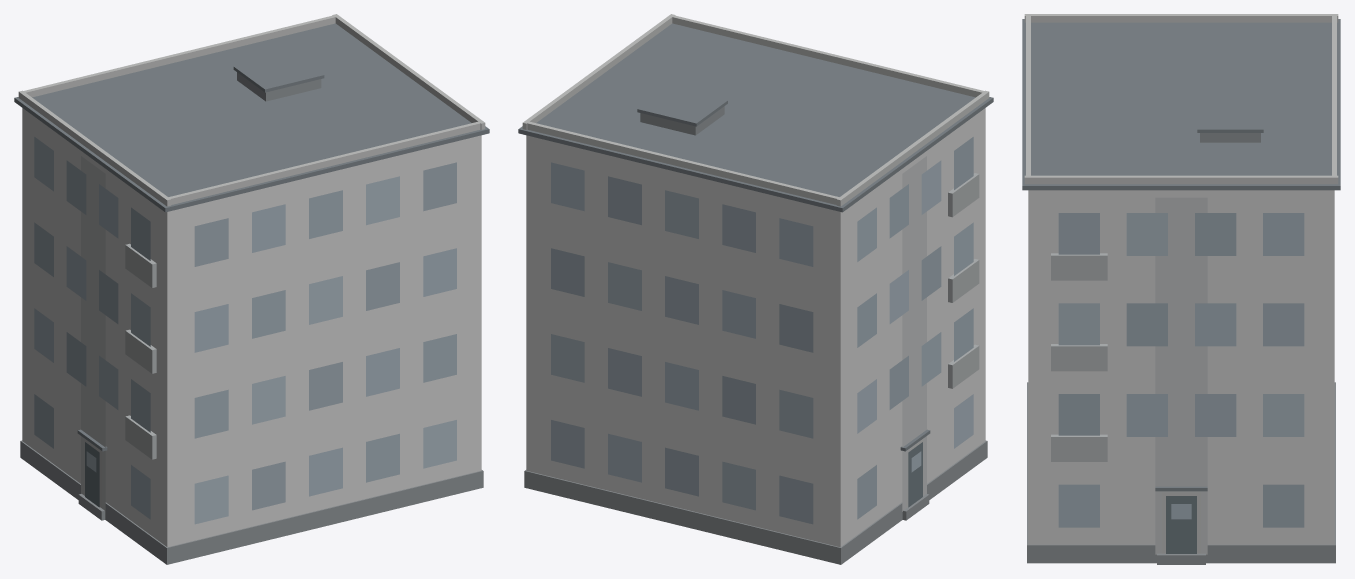
The model's file is block_5.glb.
The picture shows the model from 3 angles, left to right: view 1: azimuth 30°, elevation 25°; view 2: azimuth 150°, elevation 25°; view 3: azimuth 270°, elevation 25°; orthographic projection. The views are drawn at different scales.
Visible parts, largest first — view 1: block_5; view 2: block_5; view 3: block_5.
Part boxes in pixels (x1,y1,x2,y2): block_5: [14, 14, 489, 564]; block_5: [518, 14, 993, 564]; block_5: [1022, 14, 1340, 564].
Bounding box in the file's own units: 12.9 × 14.17 × 10.4.
